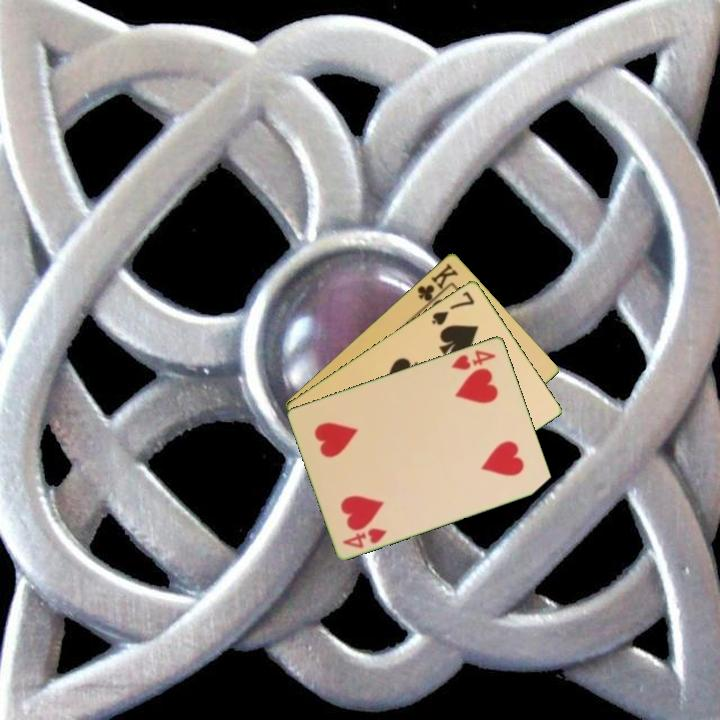4h: (448, 346, 499, 373), (339, 524, 390, 551)
7s: (428, 287, 478, 328)
Kc: (414, 259, 461, 310)
